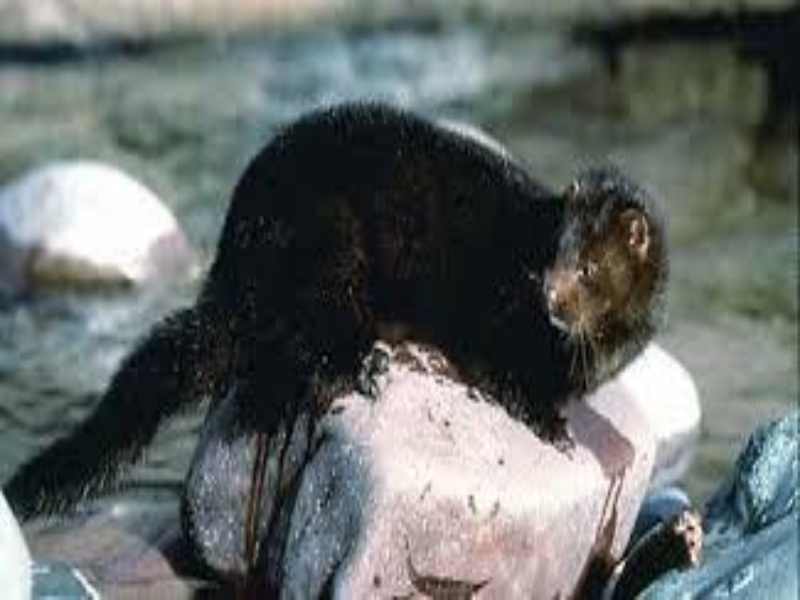minkish: (5, 93, 671, 528)
